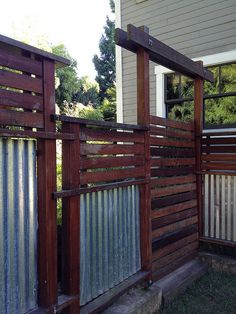Fence: (11, 115, 236, 309)
